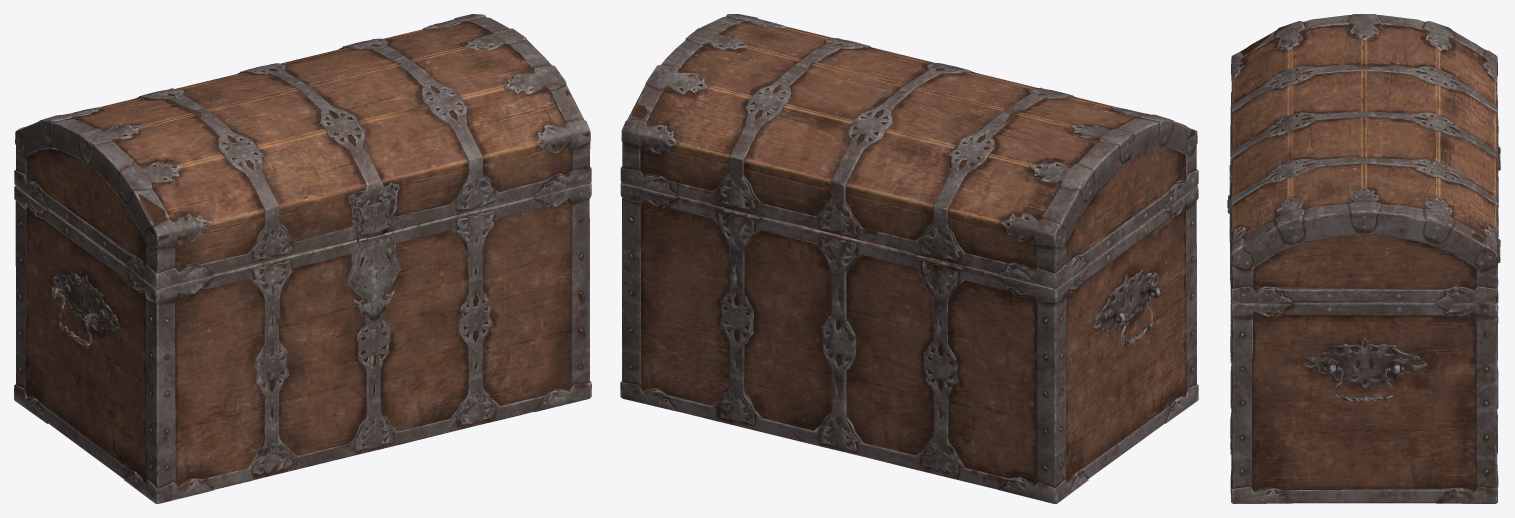
The model's file is treasure_chest.gltf.
3 views of the same model, side by side, from view 1: azimuth 30°, elevation 25°; view 2: azimuth 150°, elevation 25°; view 3: azimuth 270°, elevation 25° (orthographic). The views are drawn at different scales.
Visible parts, largest first — view 1: treasure_chest_bottom, treasure_chest_lid, treasure_chest_lock; view 2: treasure_chest_bottom, treasure_chest_lid; view 3: treasure_chest_lid, treasure_chest_bottom, treasure_chest_handle_right.
Boxes of the visible parts, x1,y1,x2,y2 form: treasure_chest_bottom: [14, 183, 591, 503]; treasure_chest_lid: [14, 14, 591, 288]; treasure_chest_lock: [349, 233, 399, 322]; treasure_chest_bottom: [620, 182, 1198, 503]; treasure_chest_lid: [620, 14, 1198, 288]; treasure_chest_lid: [1227, 14, 1500, 302]; treasure_chest_bottom: [1230, 153, 1500, 503]; treasure_chest_handle_right: [1321, 365, 1406, 401].
Size of the model in its own units: 0.959 by 0.6183 by 0.5223.
1 material, 1 textured.
